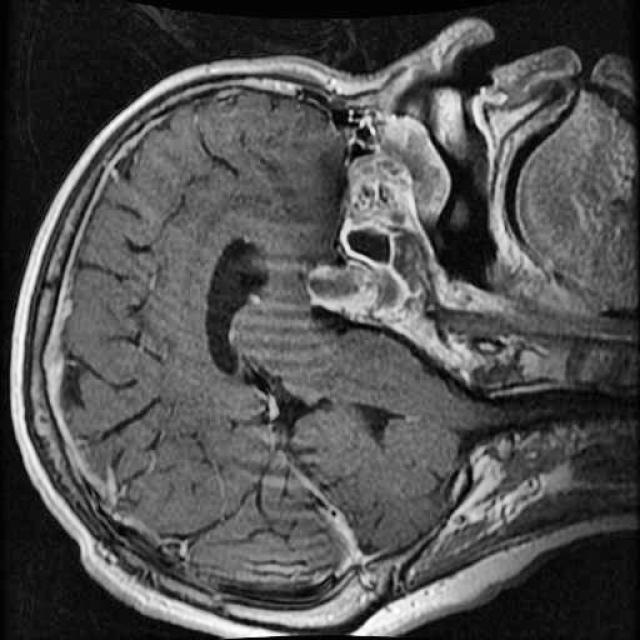Tumor: (290, 251, 418, 331)
